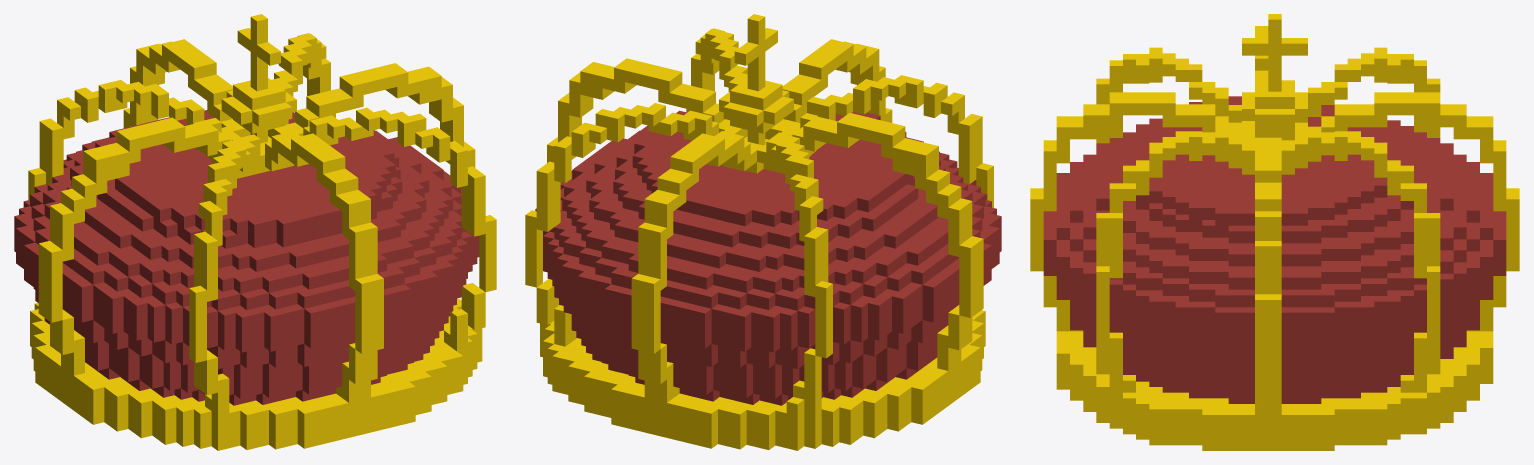
Rendered from Crown.obj.
3 renders of one model, left to right at view 1: azimuth 30°, elevation 25°; view 2: azimuth 150°, elevation 25°; view 3: azimuth 270°, elevation 25°, orthographic. The views are drawn at different scales.
Size of the model in its own units: 3.8 by 2.9 by 3.7.
1 material, 1 textured.
